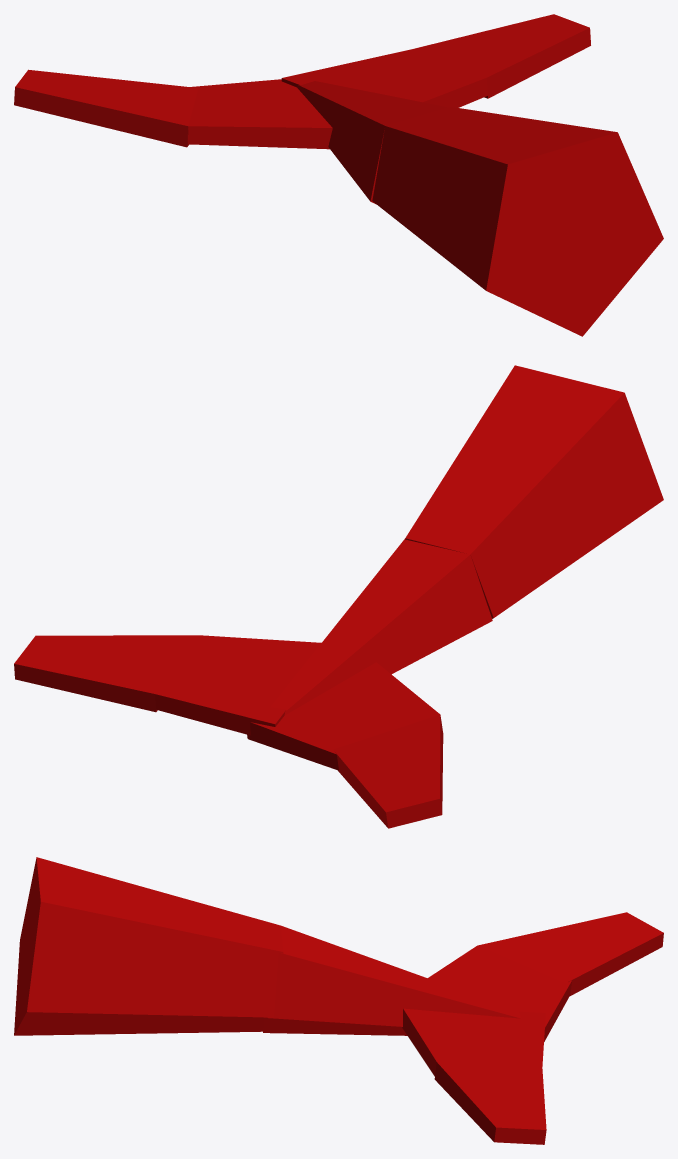
File: SM_Prop_Whale_Skeleton_Tail_01_Collision.gltf
The picture shows the model from 3 angles, top to bottom: view 1: azimuth 30°, elevation 25°; view 2: azimuth 150°, elevation 25°; view 3: azimuth 270°, elevation 25°; orthographic projection. The views are drawn at different scales.
Visible parts, largest first — view 1: SM_Prop_Whale_Skeleton_Tail_01_Collision; view 2: SM_Prop_Whale_Skeleton_Tail_01_Collision; view 3: SM_Prop_Whale_Skeleton_Tail_01_Collision.
Part boxes in pixels (x1,y1,x2,y2): SM_Prop_Whale_Skeleton_Tail_01_Collision: [14, 14, 663, 336]; SM_Prop_Whale_Skeleton_Tail_01_Collision: [14, 365, 663, 828]; SM_Prop_Whale_Skeleton_Tail_01_Collision: [14, 857, 663, 1144].
Bounding box in the file's own units: 8.08 × 2.79 × 10.56.
